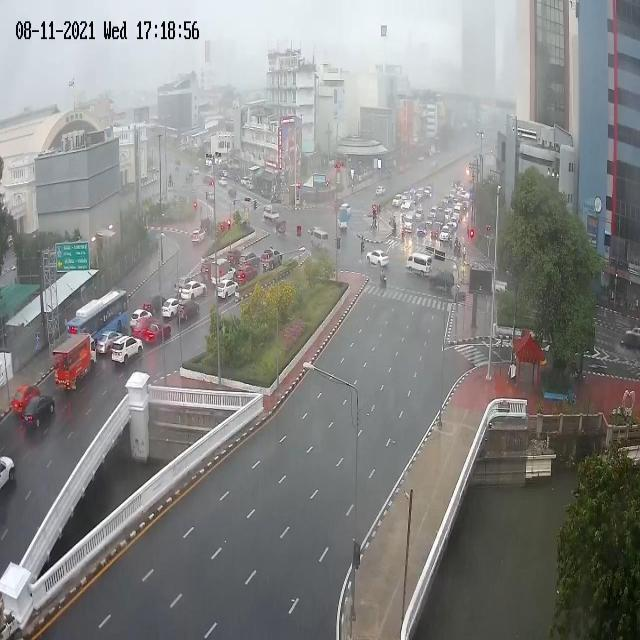Bus: (66, 288, 130, 345)
Car: (21, 395, 55, 428), (110, 334, 143, 366), (11, 383, 41, 415), (95, 330, 123, 356), (143, 321, 172, 346), (429, 269, 456, 295), (174, 298, 200, 322), (132, 318, 156, 341), (141, 294, 166, 316), (215, 278, 239, 300), (0, 455, 14, 492), (180, 280, 207, 298), (260, 248, 282, 270), (235, 264, 258, 285), (620, 325, 640, 349), (130, 308, 151, 329), (162, 298, 182, 320), (366, 249, 389, 268), (174, 276, 195, 295), (238, 252, 258, 271), (201, 256, 215, 282), (218, 268, 237, 287), (226, 250, 244, 266), (191, 228, 207, 245), (308, 226, 323, 240), (416, 221, 428, 236), (440, 226, 450, 242), (276, 220, 286, 235), (392, 193, 402, 207), (414, 207, 424, 221), (341, 203, 351, 217), (430, 224, 440, 237), (376, 185, 386, 196), (424, 185, 432, 198), (450, 216, 458, 229), (244, 181, 254, 191), (426, 214, 433, 227), (240, 177, 249, 187), (207, 190, 215, 201), (219, 177, 227, 186), (193, 167, 199, 175), (222, 168, 227, 176)
Cycle: (379, 275, 387, 288)
Truck: (52, 332, 97, 394), (210, 257, 237, 286), (263, 205, 280, 221), (338, 206, 348, 230)
Van: (406, 252, 433, 277), (310, 229, 328, 250), (405, 210, 416, 233), (453, 203, 465, 222)
